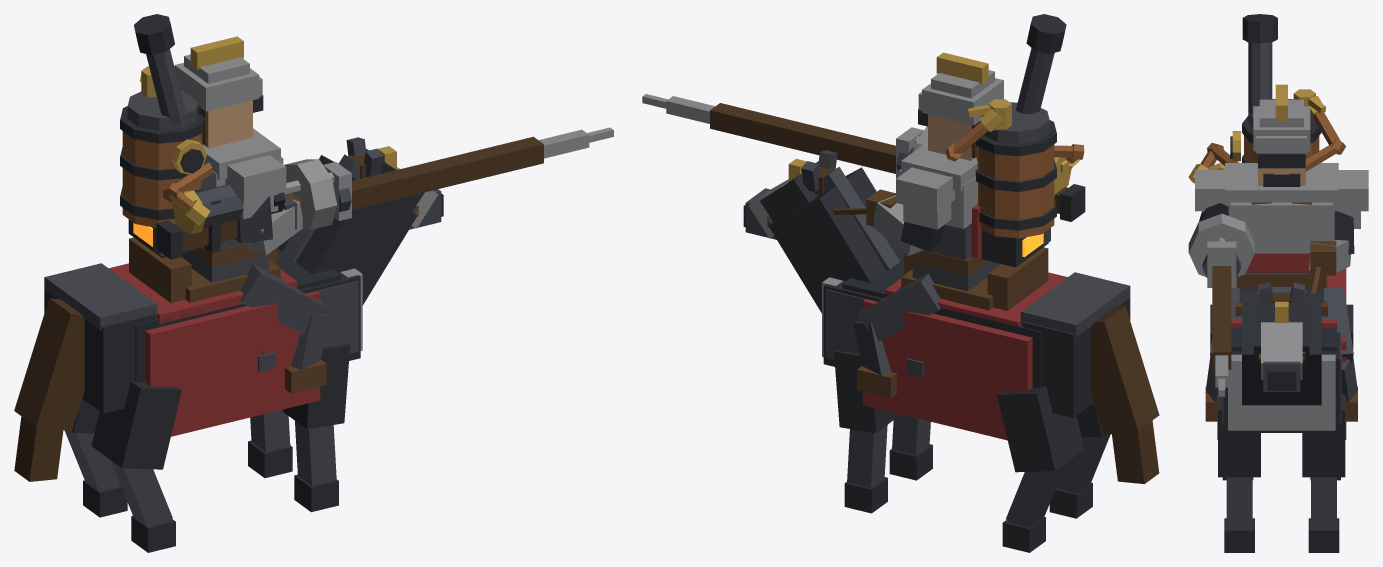
File: boilerlancer.glb
3 views of the same model, side by side, from view 1: azimuth 30°, elevation 25°; view 2: azimuth 150°, elevation 25°; view 3: azimuth 270°, elevation 25° (orthographic). The views are drawn at different scales.
Parts seen in each view (by area): view 1: Cube.034, Cube.017, Cube.095, Cube.004, Cube.031, Cube.002, Cube.051, Cylinder, Cube.056, Cube.025, Cylinder.010, Cube.038 (+35 smaller); view 2: Cube.035, Cube.004, Cube.017, Cube.095, Cube.028, Cylinder, Cube.002, Cube.051, Cube.059, Cube.022, Cube.038, Cube (+39 smaller); view 3: Cube.044, Cube.004, Cube.066, Cube.062, Cylinder.010, Cube.022, Cube.025, Cube.095, Cube.049, Cylinder.005, Cube.006, Cube.026 (+46 smaller).
Boxes of the visible parts, <box> form: Cube.034: <box>145,291,320,436</box>; Cube.017: <box>14,298,84,431</box>; Cube.095: <box>174,136,543,251</box>; Cube.004: <box>277,155,417,305</box>; Cube.031: <box>91,381,181,469</box>; Cube.002: <box>44,289,155,413</box>; Cube.051: <box>44,263,157,329</box>; Cylinder: <box>122,131,203,227</box>; Cube.056: <box>240,265,325,334</box>; Cube.025: <box>283,343,350,429</box>; Cylinder.010: <box>284,159,337,230</box>; Cube.038: <box>129,237,191,303</box>; Cube.035: <box>863,299,1032,440</box>; Cube.004: <box>768,167,904,313</box>; Cube.017: <box>1091,306,1159,435</box>; Cube.095: <box>710,103,1067,213</box>; Cube.028: <box>997,386,1084,472</box>; Cylinder: <box>976,144,1054,238</box>; Cube.002: <box>1022,298,1130,417</box>; Cube.051: <box>1020,272,1130,336</box>; Cube.059: <box>857,273,940,341</box>; Cube.022: <box>834,350,898,432</box>; Cube.038: <box>987,247,1048,310</box>; Cube: <box>842,259,1041,387</box>; Cube.044: <box>1228,354,1335,430</box>; Cube.004: <box>1242,294,1321,405</box>; Cube.066: <box>1225,163,1338,205</box>; Cube.062: <box>1231,202,1332,233</box>; Cylinder.010: <box>1188,213,1254,277</box>; Cube.022: <box>1302,394,1345,477</box>; Cube.025: <box>1218,395,1260,477</box>; Cube.095: <box>1212,266,1231,369</box>; Cube.049: <box>1261,322,1302,379</box>; Cylinder.005: <box>1248,42,1272,118</box>; Cube.006: <box>1254,303,1309,365</box>; Cube.026: <box>1226,477,1252,530</box>.
Size of the model in its own units: 38.04 by 33.34 by 11.73.
